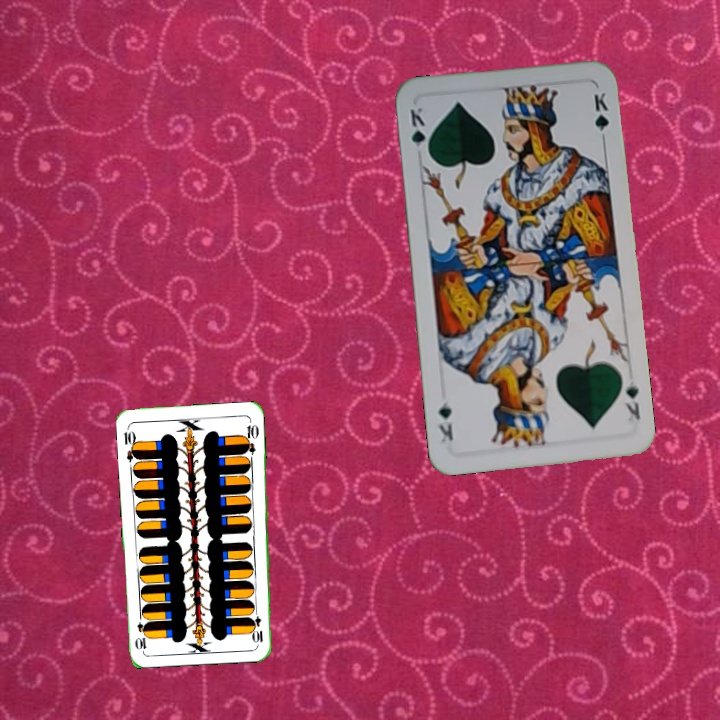E10: (119, 423, 140, 463), (250, 605, 266, 646)
GK: (406, 103, 432, 160), (620, 371, 643, 423)
